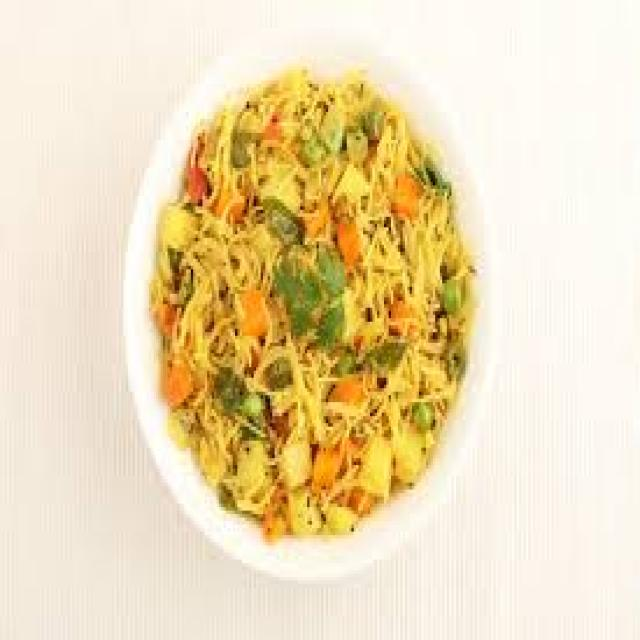POHA: (149, 70, 470, 528)
